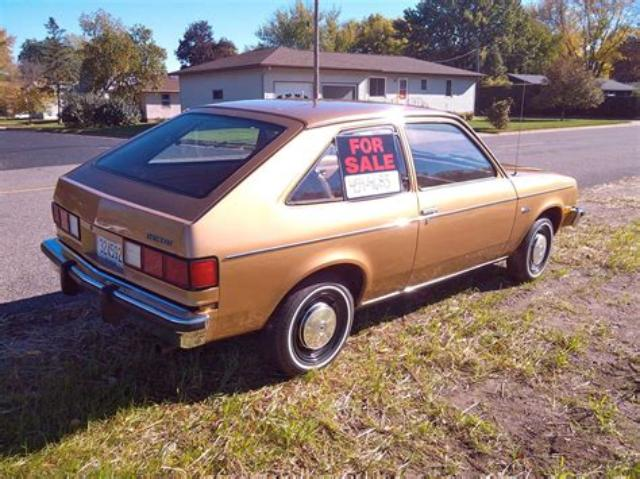chevette-1983: (41, 100, 583, 375)
